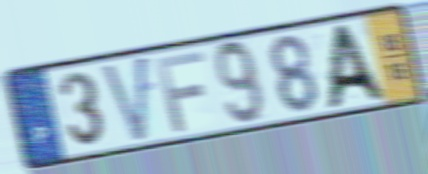3: (57, 70, 106, 150)
8: (267, 33, 321, 116)
9: (215, 37, 267, 129)
A: (322, 20, 391, 113)
F: (153, 48, 208, 135)
V: (99, 51, 151, 147)
